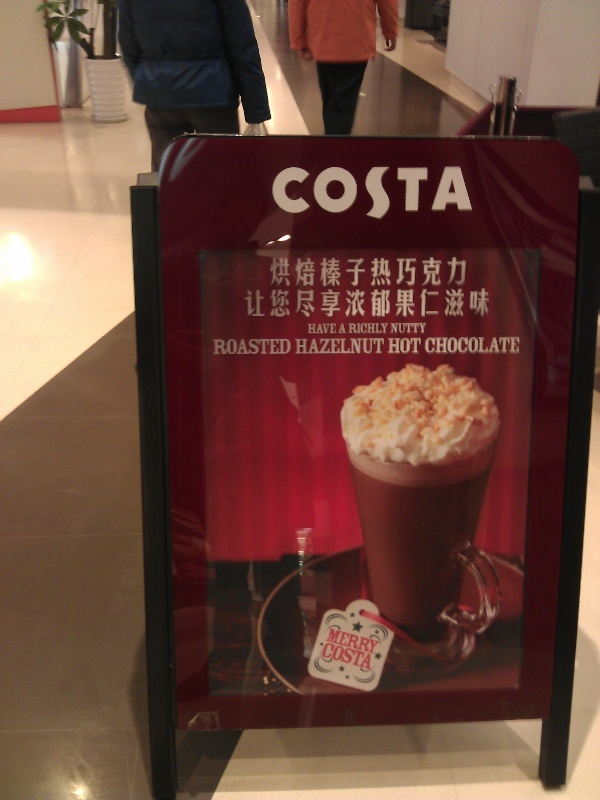text: (273, 165, 288, 221), (289, 165, 304, 221), (305, 165, 320, 221), (321, 165, 336, 221), (337, 165, 352, 221), (353, 165, 368, 221), (369, 165, 384, 221), (385, 165, 400, 221), (401, 165, 416, 221), (417, 165, 432, 221), (433, 165, 448, 221), (449, 165, 464, 221), (257, 289, 272, 319), (273, 289, 288, 319), (289, 289, 304, 319), (305, 289, 320, 319), (321, 289, 336, 319), (337, 289, 352, 319), (353, 289, 368, 319), (369, 289, 384, 319), (385, 289, 400, 319), (401, 289, 416, 319), (417, 289, 432, 319), (433, 289, 448, 319), (449, 289, 464, 319), (465, 289, 480, 319), (465, 165, 473, 221), (273, 258, 288, 287), (289, 258, 304, 287), (305, 258, 320, 287), (321, 258, 336, 287), (337, 258, 352, 287), (353, 258, 368, 287), (369, 258, 384, 287), (385, 258, 400, 287), (401, 258, 416, 287), (417, 258, 432, 287), (433, 258, 448, 287), (449, 258, 464, 287), (337, 641, 352, 670), (353, 641, 368, 670), (337, 628, 352, 656), (353, 628, 368, 656), (242, 289, 256, 319), (369, 628, 382, 656), (481, 289, 493, 319), (324, 641, 336, 670), (369, 337, 385, 354), (225, 338, 240, 356), (241, 338, 256, 356), (257, 338, 272, 356), (273, 338, 288, 356), (305, 337, 320, 354), (321, 337, 336, 354), (337, 337, 352, 354), (353, 337, 368, 354), (401, 337, 416, 354), (433, 337, 448, 354), (449, 337, 464, 354), (465, 337, 480, 354), (481, 337, 496, 354), (497, 337, 512, 354), (328, 628, 336, 656), (212, 338, 224, 356), (388, 337, 400, 354), (321, 323, 337, 334), (369, 641, 375, 670), (353, 323, 368, 334), (369, 323, 384, 334), (401, 323, 416, 334), (338, 324, 352, 335), (295, 337, 304, 354), (423, 337, 432, 354), (267, 258, 272, 287), (513, 337, 521, 354), (308, 323, 320, 334), (390, 323, 400, 334), (417, 323, 426, 334), (465, 258, 468, 287), (417, 337, 422, 354), (289, 338, 292, 356), (385, 323, 389, 334), (349, 323, 352, 334)
